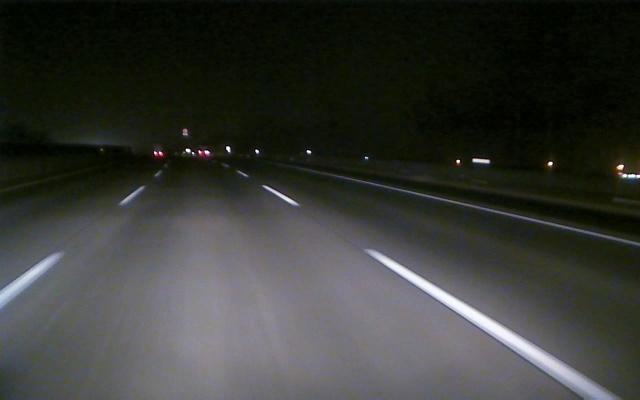lane: (239, 173, 620, 398), (1, 183, 147, 307), (367, 181, 640, 247)
